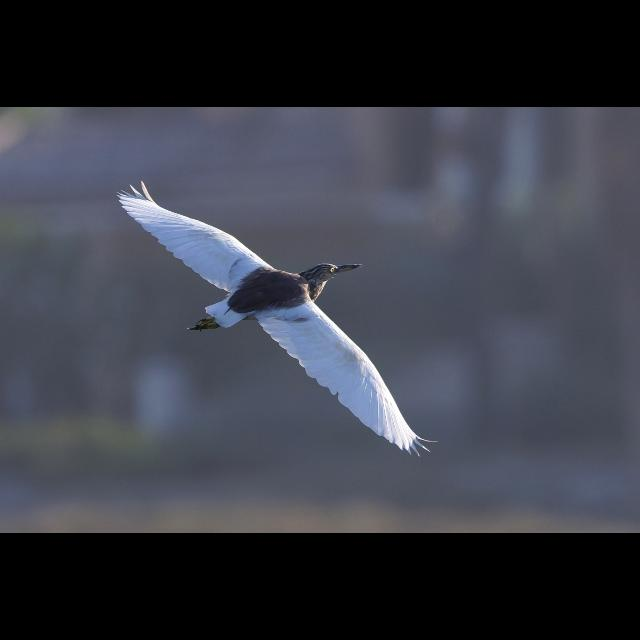heron: (119, 181, 429, 453)
